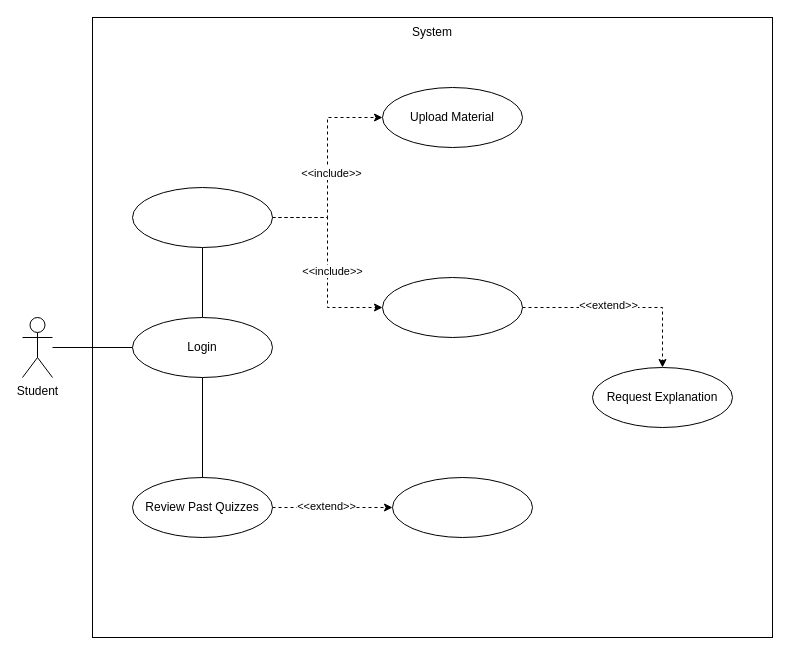
Some shapes in this 790 by 655 pixel diagram are drawn without their labels. Here are the shapes that lost their labels. From the top down, the centre of each, then its label:
pixel 202 217: Generate New Quiz
pixel 452 307: Take Quiz
pixel 462 507: Export to Flashcards
